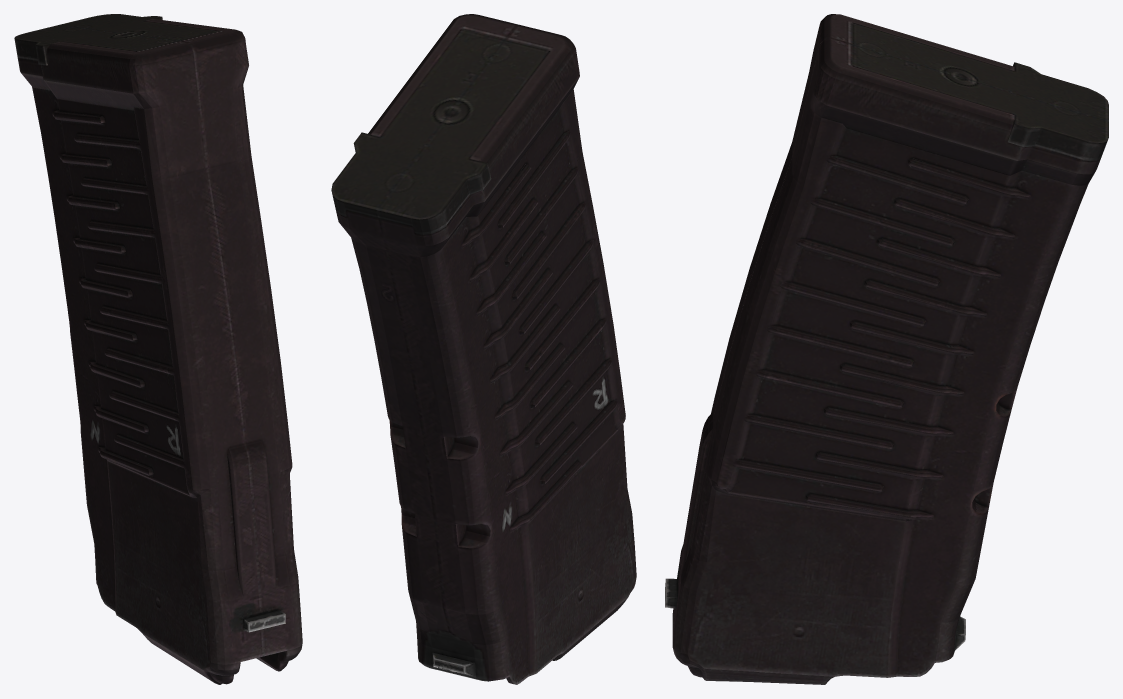
The picture shows the model from 3 angles, left to right: view 1: azimuth 30°, elevation 25°; view 2: azimuth 150°, elevation 25°; view 3: azimuth 270°, elevation 25°; orthographic projection. The views are drawn at different scales.
Visible parts, largest first — view 1: TW_57838f9f2459774a150289a0_PZ_Import; view 2: TW_57838f9f2459774a150289a0_PZ_Import; view 3: TW_57838f9f2459774a150289a0_PZ_Import.
Part boxes in pixels (<box>): TW_57838f9f2459774a150289a0_PZ_Import: <box>14,14,302,684</box>; TW_57838f9f2459774a150289a0_PZ_Import: <box>331,14,636,684</box>; TW_57838f9f2459774a150289a0_PZ_Import: <box>665,14,1108,684</box>.
Size of the model in its own units: 0.0194 by 0.0589 by 0.0925.
1 material, 1 textured.
